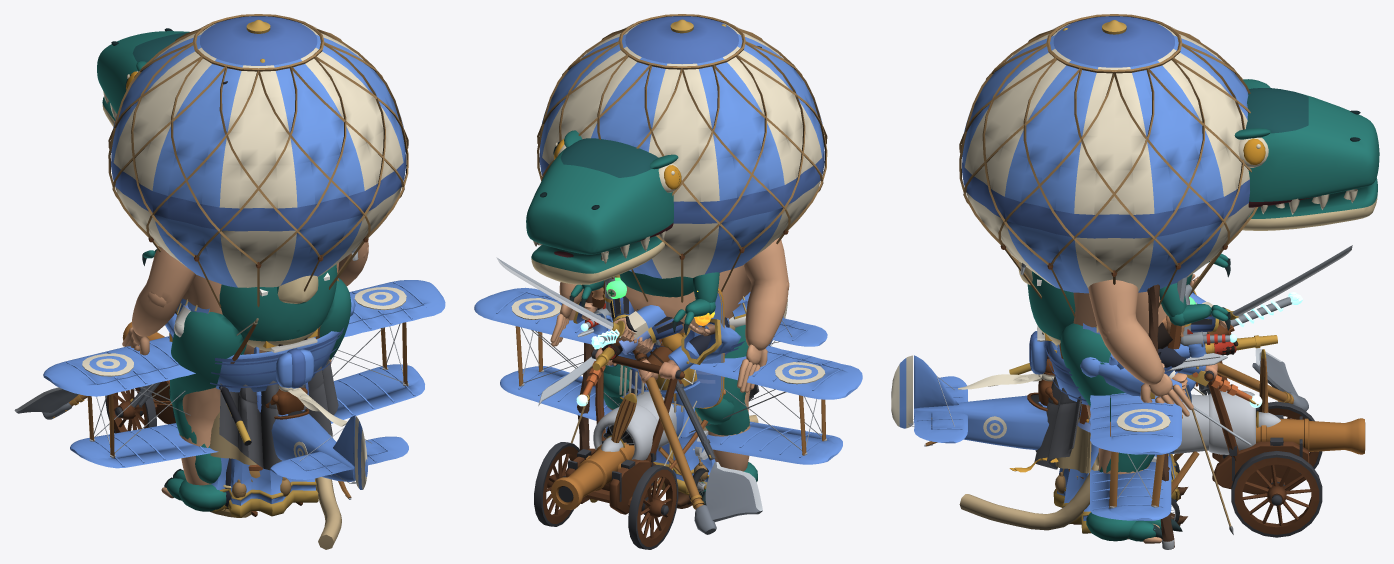
File: figures-ac58b110.glb
The picture shows the model from 3 angles, left to right: view 1: azimuth 30°, elevation 25°; view 2: azimuth 150°, elevation 25°; view 3: azimuth 270°, elevation 25°; orthographic projection. The views are drawn at different scales.
Visible parts, largest first — view 1: balloon.torso, drake.torso, sumo.torso, ogre.torso, ogre.legL, mage.cape2, mage.extra2, ogre.head, sumo.armL, gunner.wheels, ogre.footL, sumo.foreL (+18 smaller); view 2: balloon.torso, drake.torso, ogre.head, gunner.wheels, viking.weapon, gunner.offhand, ogre.jaw, gunner.extra, sumo.torso, sumo.foreL, gladiator.shield, sumo.armL (+23 smaller); view 3: balloon.torso, drake.torso, ogre.head, gunner.wheels, gunner.offhand, ogre.jaw, gunner.extra, sumo.torso, firefighter.cape2, ogre.legR, sumo.foreR, sumo.armR (+22 smaller).
Boxes of the visible parts, bbox=[...] form: balloon.torso: bbox=[108, 14, 408, 307]; drake.torso: bbox=[43, 280, 445, 499]; sumo.torso: bbox=[170, 262, 344, 396]; ogre.torso: bbox=[219, 264, 337, 350]; ogre.legL: bbox=[169, 311, 246, 403]; mage.cape2: bbox=[219, 360, 338, 470]; mage.extra2: bbox=[211, 458, 318, 517]; ogre.head: bbox=[97, 28, 189, 119]; sumo.armL: bbox=[145, 246, 195, 307]; gunner.wheels: bbox=[105, 386, 156, 433]; ogre.footL: bbox=[164, 469, 226, 511]; sumo.foreL: bbox=[132, 285, 180, 336]; balloon.torso: bbox=[537, 14, 827, 302]; drake.torso: bbox=[474, 287, 862, 475]; ogre.head: bbox=[526, 138, 673, 263]; gunner.wheels: bbox=[534, 442, 678, 549]; viking.weapon: bbox=[632, 349, 762, 534]; gunner.offhand: bbox=[566, 349, 684, 514]; ogre.jaw: bbox=[531, 236, 664, 284]; gunner.extra: bbox=[551, 442, 634, 509]; sumo.torso: bbox=[597, 265, 751, 379]; sumo.foreL: bbox=[745, 285, 788, 350]; gladiator.shield: bbox=[644, 288, 724, 408]; sumo.armL: bbox=[744, 238, 789, 290]; balloon.torso: bbox=[959, 14, 1258, 317]; drake.torso: bbox=[911, 355, 1255, 520]; ogre.head: bbox=[1246, 88, 1379, 214]; gunner.wheels: bbox=[1231, 401, 1322, 537]; gunner.offhand: bbox=[1204, 361, 1309, 494]; ogre.jaw: bbox=[1242, 177, 1377, 230]; gunner.extra: bbox=[1256, 417, 1365, 454]; sumo.torso: bbox=[1029, 291, 1189, 405]; firefighter.cape2: bbox=[959, 463, 1098, 530]; ogre.legR: bbox=[1060, 323, 1124, 421]; sumo.foreR: bbox=[1100, 320, 1163, 385]; sumo.armR: bbox=[1088, 279, 1138, 338].
Bounding box in the file's own units: 1.69 × 2.01 × 1.8.
